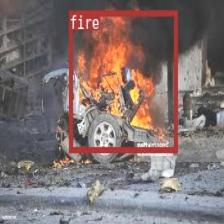fire: (68, 10, 177, 152)
